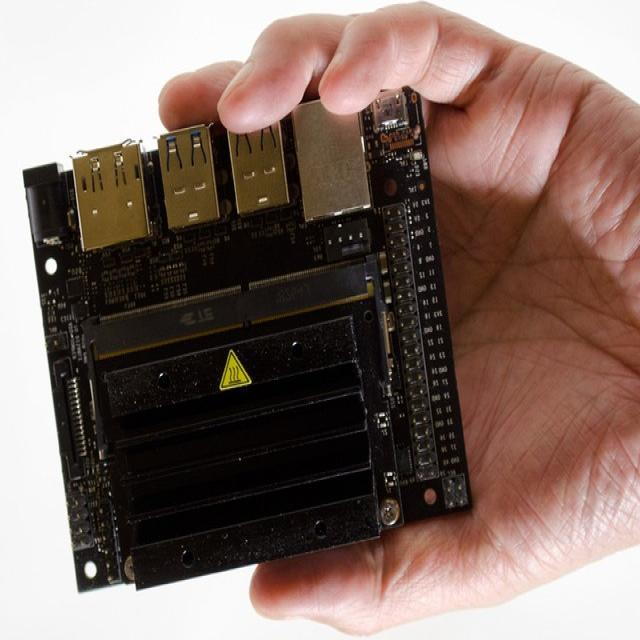Jetson Nano: (24, 86, 475, 595)
